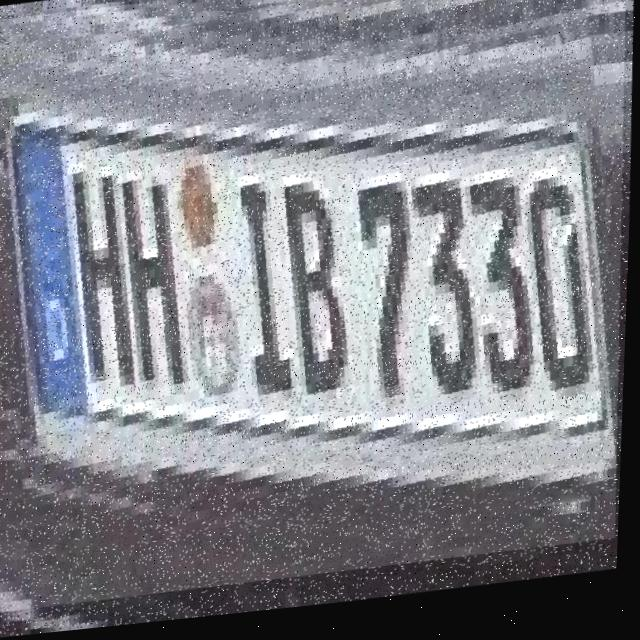LicensePlate: (0, 0, 637, 614)
